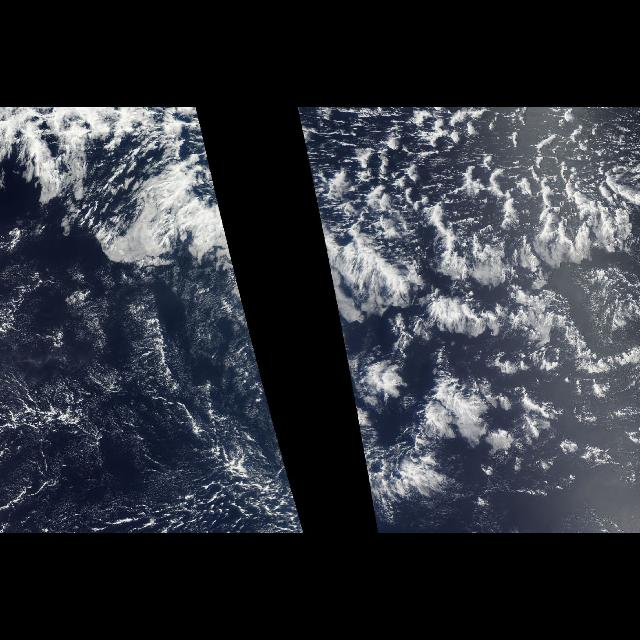Flower: (332, 169, 638, 463)
Gravel: (351, 115, 635, 239)
Sugar: (2, 270, 278, 528)
